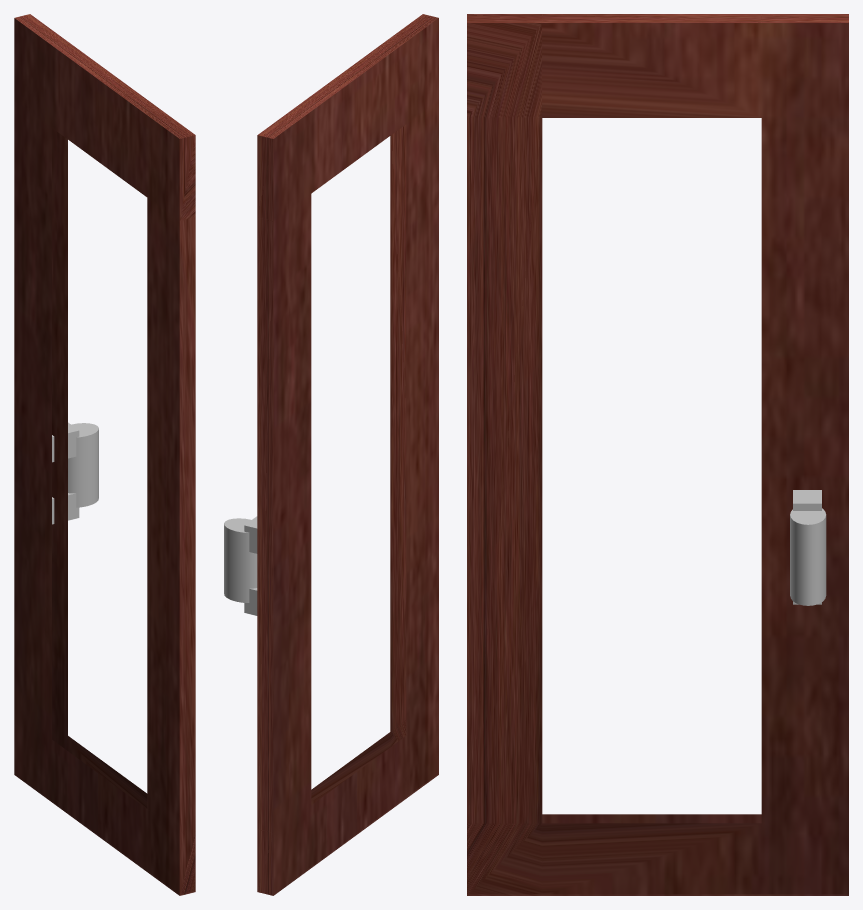
File: libreroPuertaIzq.obj
3 views of the same model, side by side, from view 1: azimuth 30°, elevation 25°; view 2: azimuth 150°, elevation 25°; view 3: azimuth 270°, elevation 25° (orthographic). The views are drawn at different scales.
Parts seen in each view (by area): view 1: pCube24; view 2: pCube24; view 3: pCube24.
Part boxes in pixels (left/top/right/bottom): pCube24: left=14, top=14, right=195, bottom=895; pCube24: left=224, top=14, right=438, bottom=895; pCube24: left=467, top=14, right=848, bottom=895.
Size of the model in its own units: 0.1449 by 1.6 by 0.6341.
